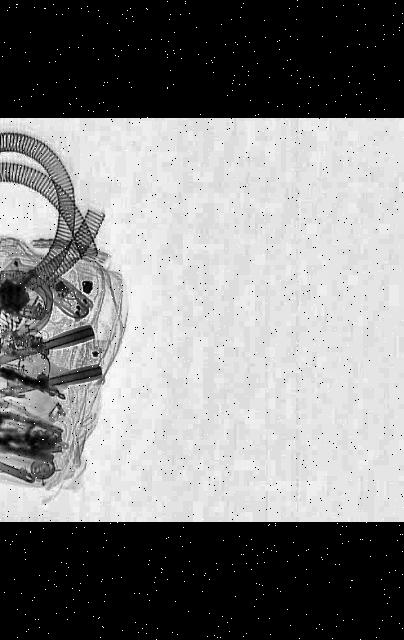Wrench: (0, 420, 41, 491)
